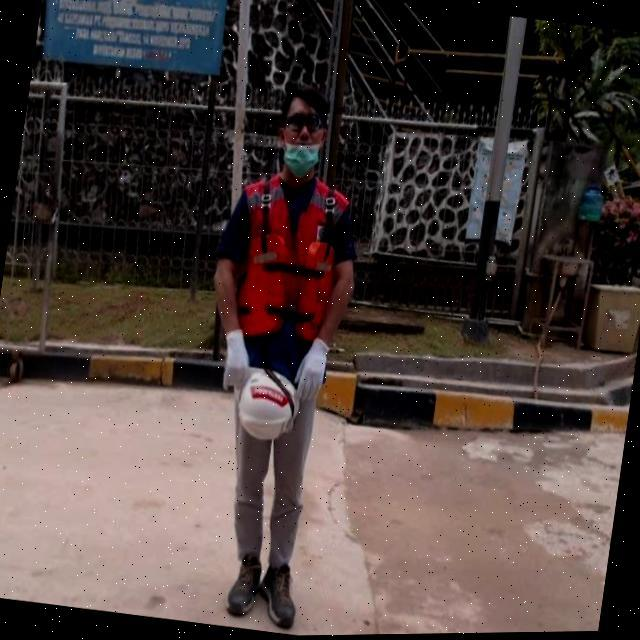goggles_on: (276, 110, 334, 136)
